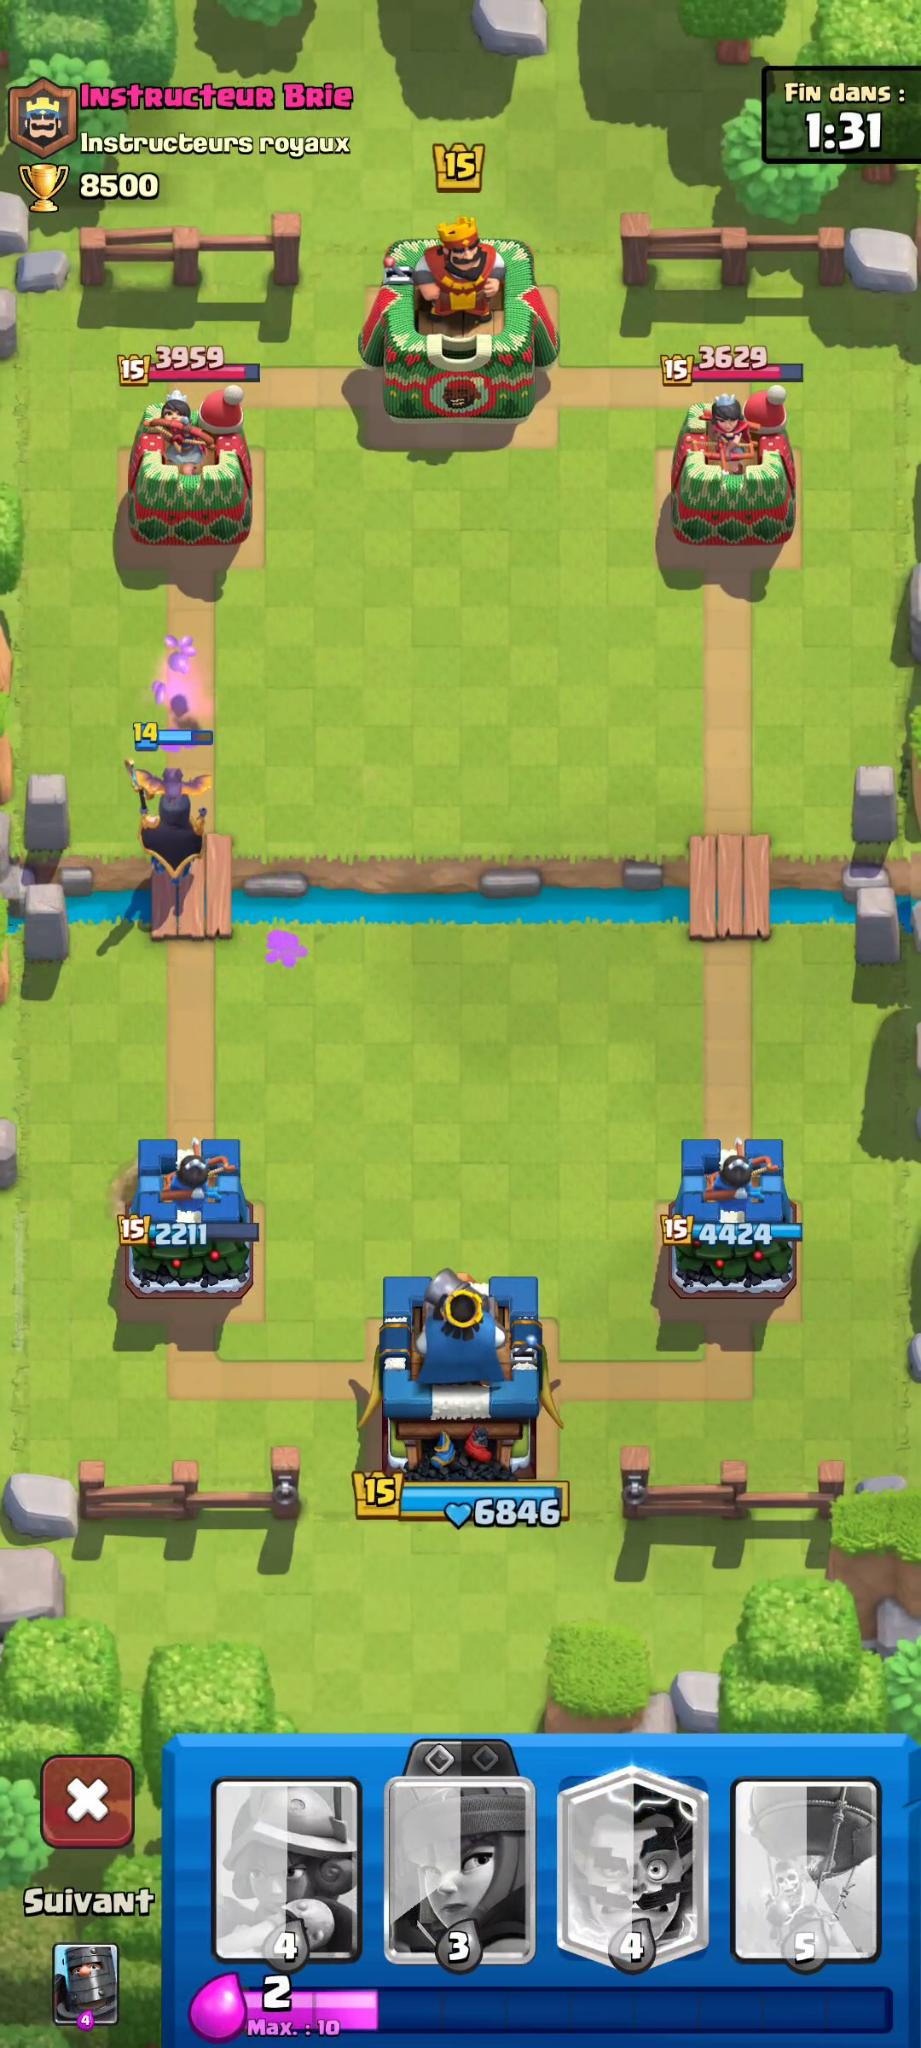bat: (136, 751, 214, 803)
